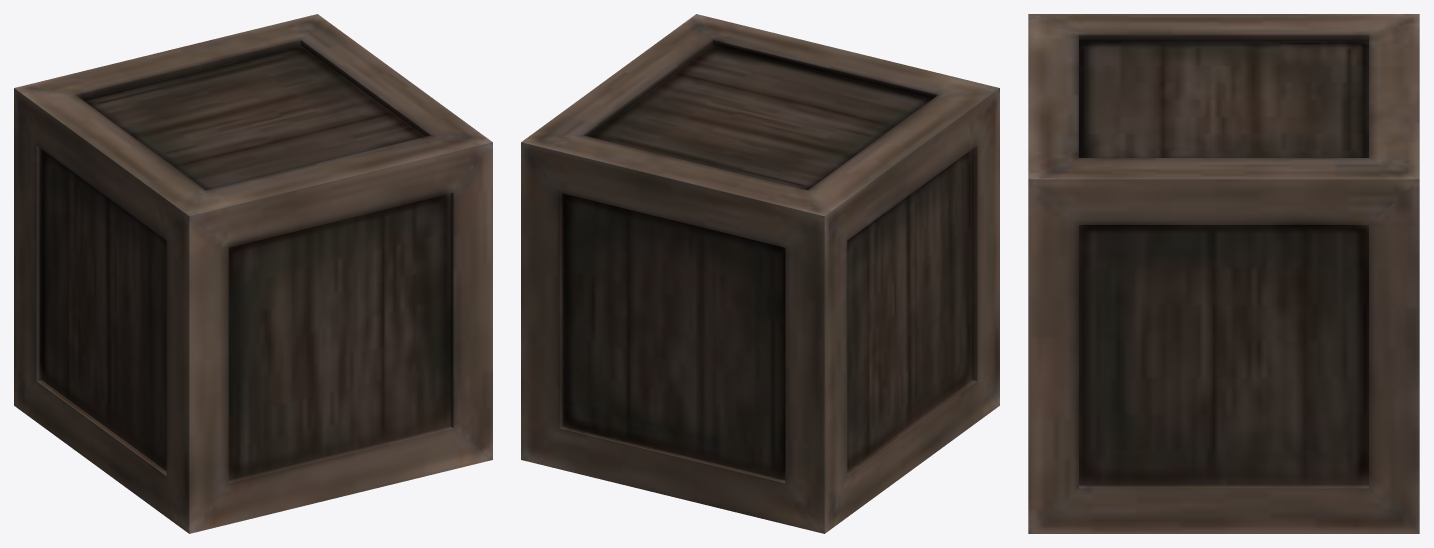
File: sd_crate.glb
3 renders of one model, left to right at view 1: azimuth 30°, elevation 25°; view 2: azimuth 150°, elevation 25°; view 3: azimuth 270°, elevation 25°, orthographic. The views are drawn at different scales.
Parts seen in each view (by area): view 1: crate; view 2: crate; view 3: crate.
Part boxes in pixels (x1,y1,x2,y2): crate: (14,14,492,533); crate: (521,14,999,533); crate: (1028,14,1419,533).
Bounding box in the file's own units: 0.8 × 0.8 × 0.8.
1 material, 1 textured.
